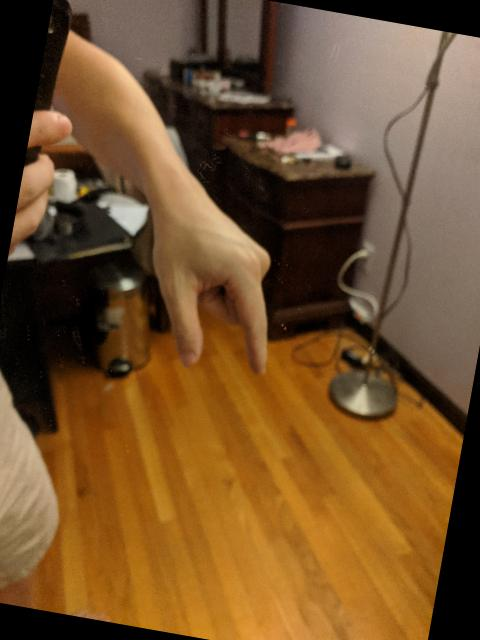Q: (126, 180, 302, 388)
